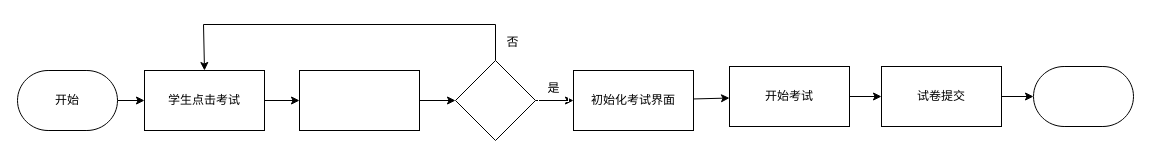
Some shapes in this 1151 by 158 pixel diagram are drawn without their labels. Here are the shapes that lost their labels. From the top down, the box of each, then its label:
(298, 70, 420, 130): 注意事项弹窗
(454, 60, 536, 140): 人脸识别
(1032, 66, 1134, 126): 结束
